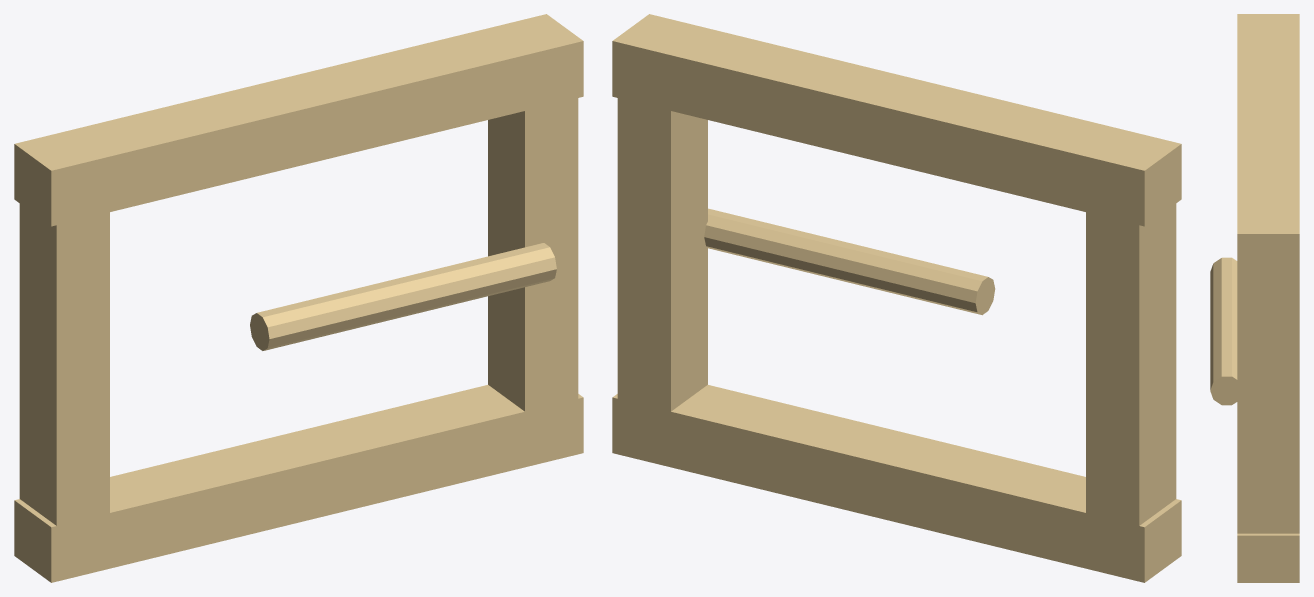
Rendered from ACC_Buckle_Gold.glb.
The picture shows the model from 3 angles, left to right: view 1: azimuth 30°, elevation 25°; view 2: azimuth 150°, elevation 25°; view 3: azimuth 270°, elevation 25°; orthographic projection. The views are drawn at different scales.
Visible parts, largest first — view 1: ACC_Buckle_Gold_2, ACC_Buckle_Gold_1, ACC_Buckle_Gold_3, ACC_Buckle_Gold_4, ACC_Buckle_Gold_5; view 2: ACC_Buckle_Gold_2, ACC_Buckle_Gold_1, ACC_Buckle_Gold_4, ACC_Buckle_Gold_3, ACC_Buckle_Gold_5; view 3: ACC_Buckle_Gold_2, ACC_Buckle_Gold_4, ACC_Buckle_Gold_5, ACC_Buckle_Gold_1.
Boxes of the visible parts, x1,y1,x2,y2 form: ACC_Buckle_Gold_2: (14, 14, 583, 226); ACC_Buckle_Gold_1: (14, 385, 583, 582); ACC_Buckle_Gold_3: (19, 173, 109, 525); ACC_Buckle_Gold_4: (488, 60, 578, 450); ACC_Buckle_Gold_5: (250, 243, 556, 350); ACC_Buckle_Gold_2: (612, 14, 1181, 226); ACC_Buckle_Gold_1: (612, 385, 1181, 582); ACC_Buckle_Gold_4: (617, 59, 707, 448); ACC_Buckle_Gold_3: (1086, 175, 1176, 525); ACC_Buckle_Gold_5: (704, 208, 995, 315); ACC_Buckle_Gold_2: (1237, 14, 1299, 280); ACC_Buckle_Gold_4: (1237, 281, 1299, 533); ACC_Buckle_Gold_5: (1210, 257, 1237, 405); ACC_Buckle_Gold_1: (1237, 533, 1299, 582).
Size of the model in its own units: 0.05 by 0.037 by 0.0086.
